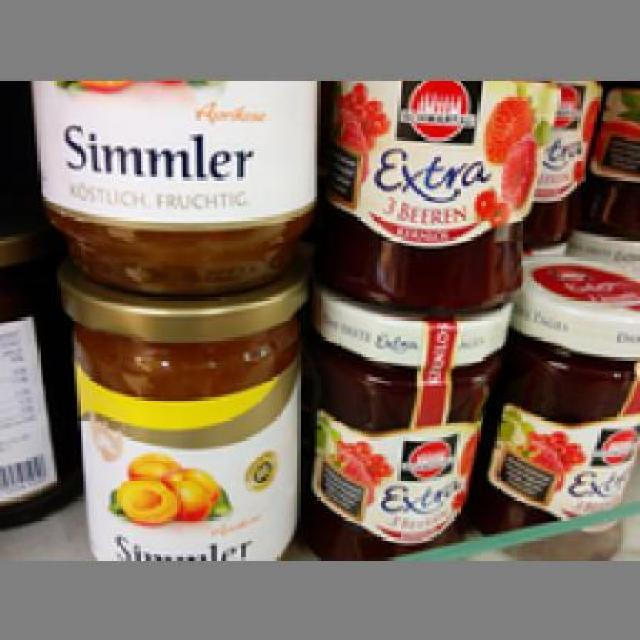Jam: (54, 262, 314, 558), (28, 79, 324, 292), (303, 282, 512, 555), (314, 78, 543, 312), (474, 255, 637, 554)
